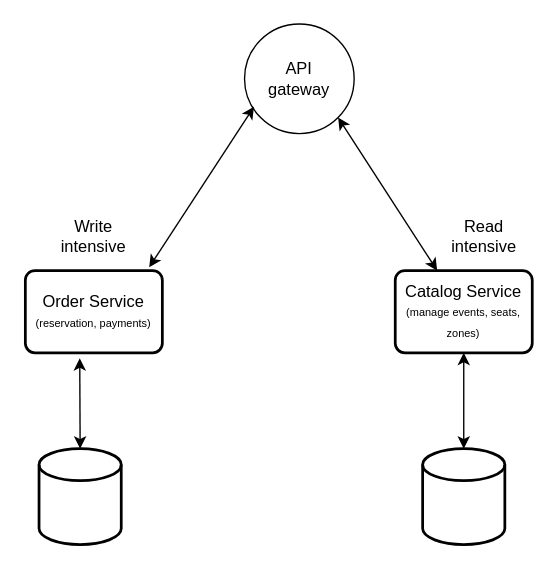
Some shapes in this 556 by 570 pixel diagram are drawn without their labels. Each missing label, with the box of its shape:
Postgres: (37, 447, 122, 545)
Redis: (421, 447, 506, 545)
